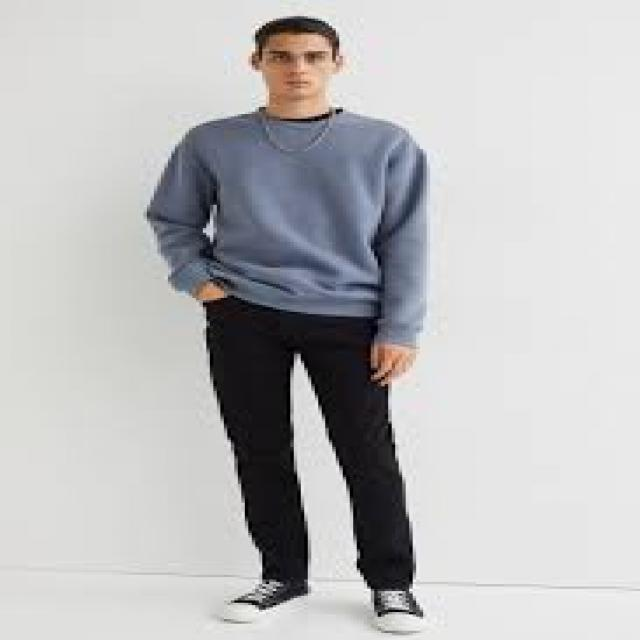plain: (139, 108, 435, 325)
